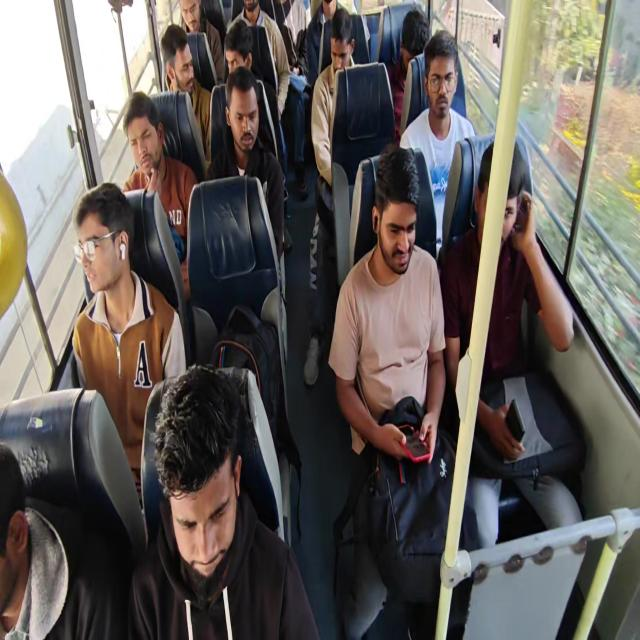person: (158, 399, 244, 585), (70, 188, 139, 292), (0, 437, 40, 610), (476, 146, 528, 265), (370, 182, 416, 276), (122, 102, 166, 182), (158, 27, 195, 99), (228, 79, 262, 146), (392, 15, 436, 66), (426, 51, 456, 118), (325, 19, 358, 77), (222, 31, 252, 83), (175, 0, 207, 32), (237, 0, 266, 15), (320, 0, 337, 8)
